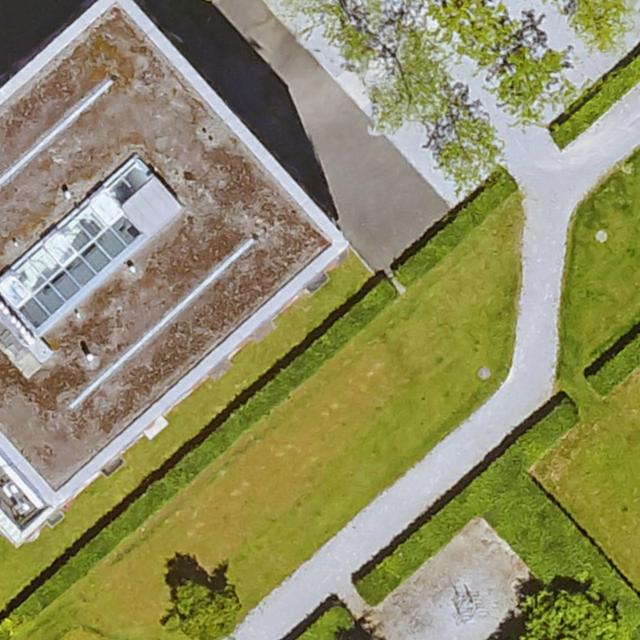tree: (518, 591, 618, 640), (170, 580, 240, 639)
